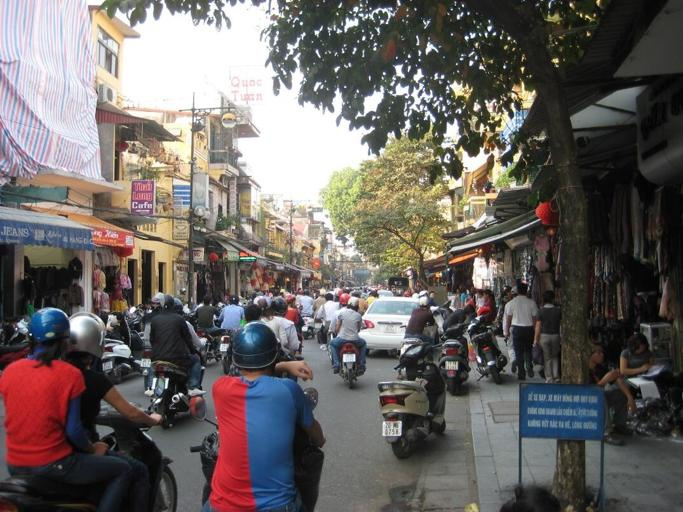non-vehicle: (0, 381, 179, 511), (190, 387, 325, 510), (376, 342, 447, 459), (140, 332, 206, 427), (98, 304, 142, 381), (467, 312, 505, 383), (439, 322, 468, 397), (327, 340, 363, 389)
